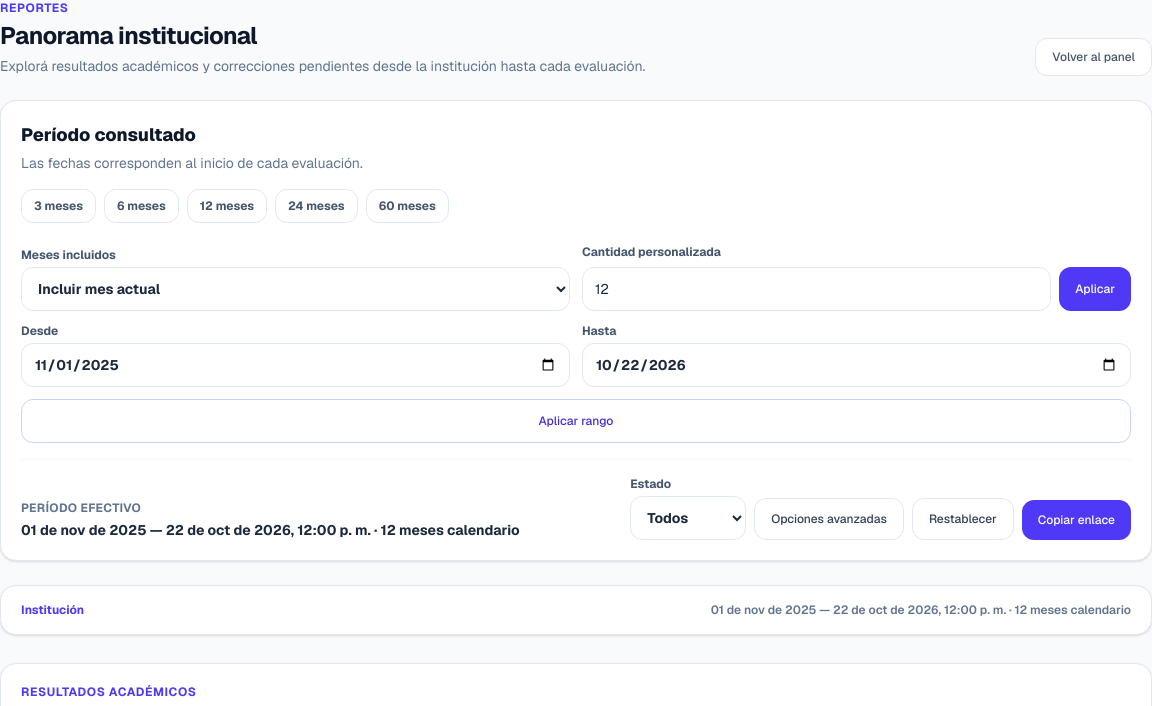
Test: panorama institucional configurable v1.4 › aplica accesos rápidos inmediatamente y limita cantidades personalizadas a 60 meses
Click the button "24 meses" at x=316, y=206, box [275,189,358,223]
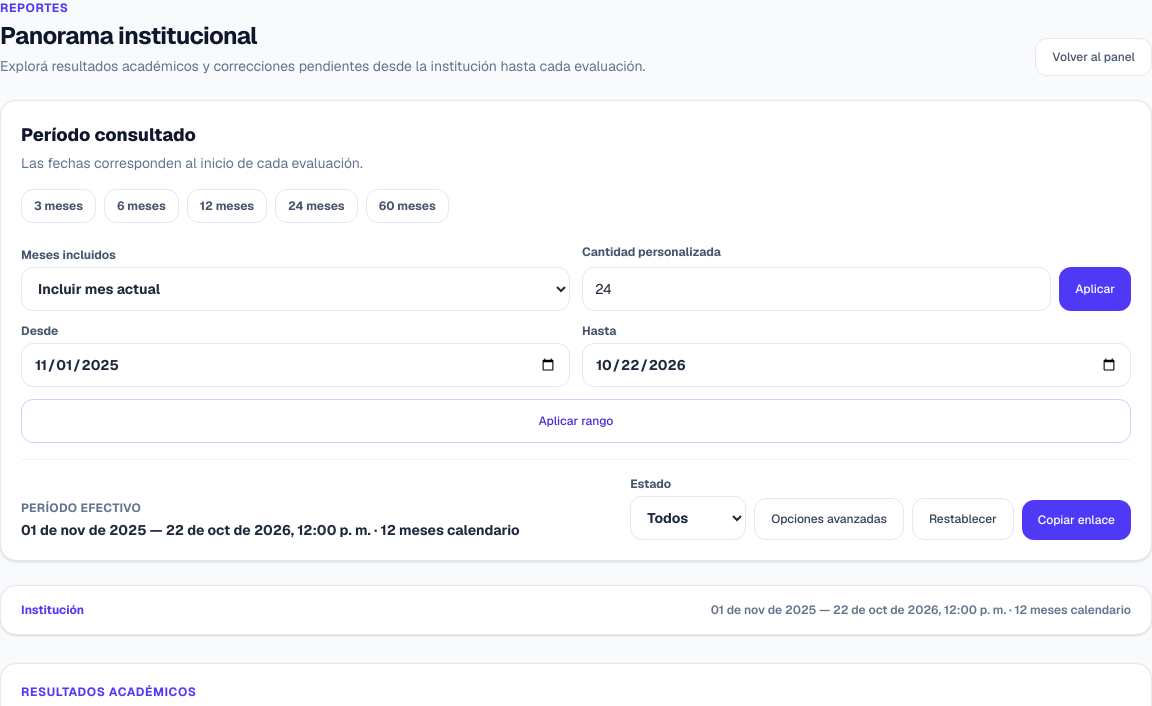
Replace the text in the number field labelled "Cantidad personalizada" with "61" at x=817, y=289, box [582,267,1051,311]
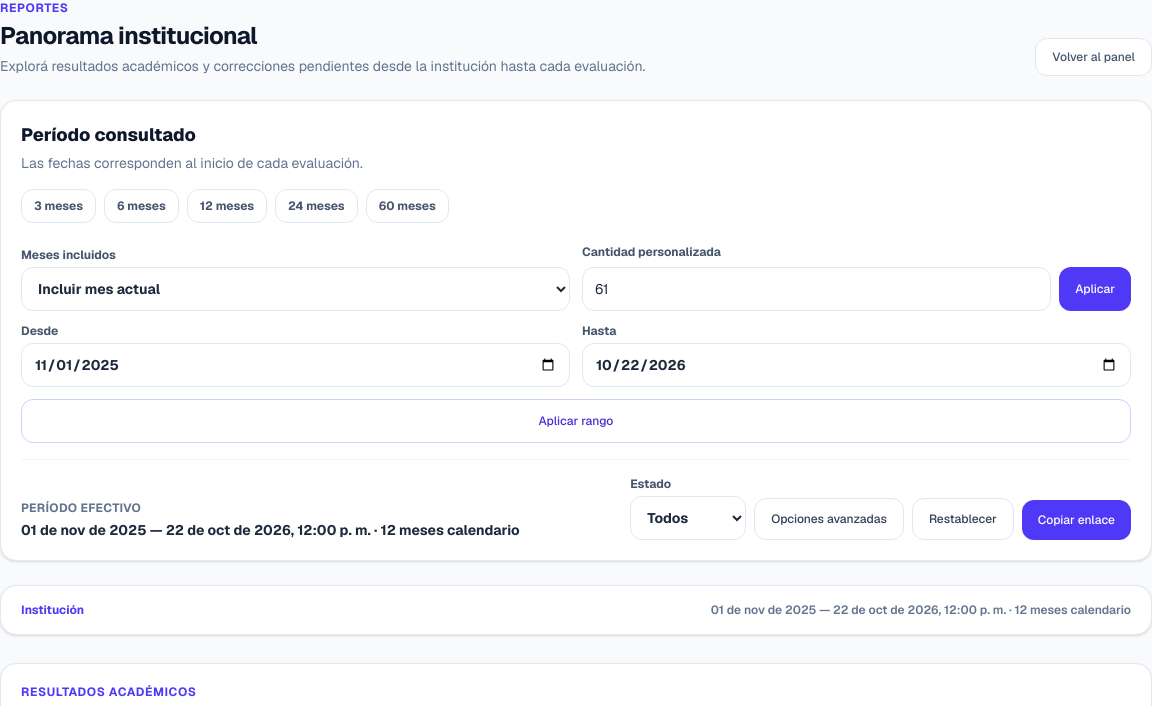
Click the button "Aplicar" at x=1095, y=289, box [1059,267,1131,311]
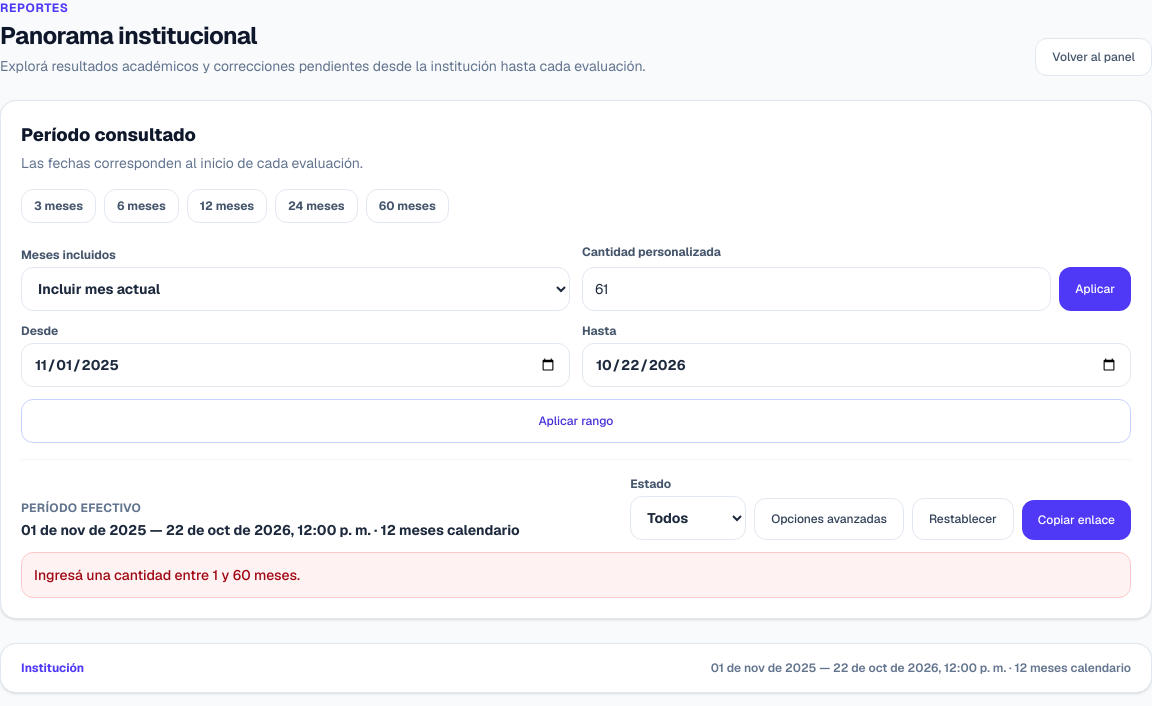
Now the text "Ingresá una cantidad entre 1 y 60 meses." is shown, box [34,565,300,585]
